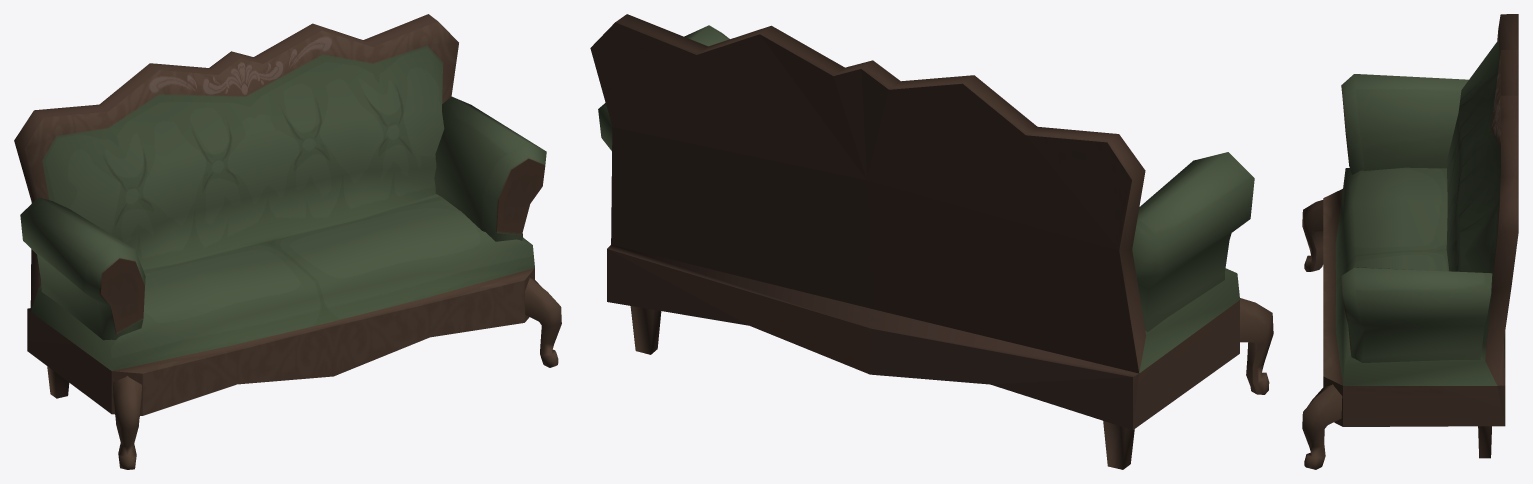
The model's file is sofa1.FBX.
The picture shows the model from 3 angles, left to right: view 1: azimuth 30°, elevation 25°; view 2: azimuth 150°, elevation 25°; view 3: azimuth 270°, elevation 25°; orthographic projection. The views are drawn at different scales.
Visible parts, largest first — view 1: sofa_1; view 2: sofa_1; view 3: sofa_1.
Part boxes in pixels (<box>): sofa_1: <box>14,14,561,469</box>; sofa_1: <box>590,14,1273,469</box>; sofa_1: <box>1302,14,1518,469</box>.
Size of the model in its own units: 75.53 by 32.24 by 46.11.
1 material, 1 textured.
